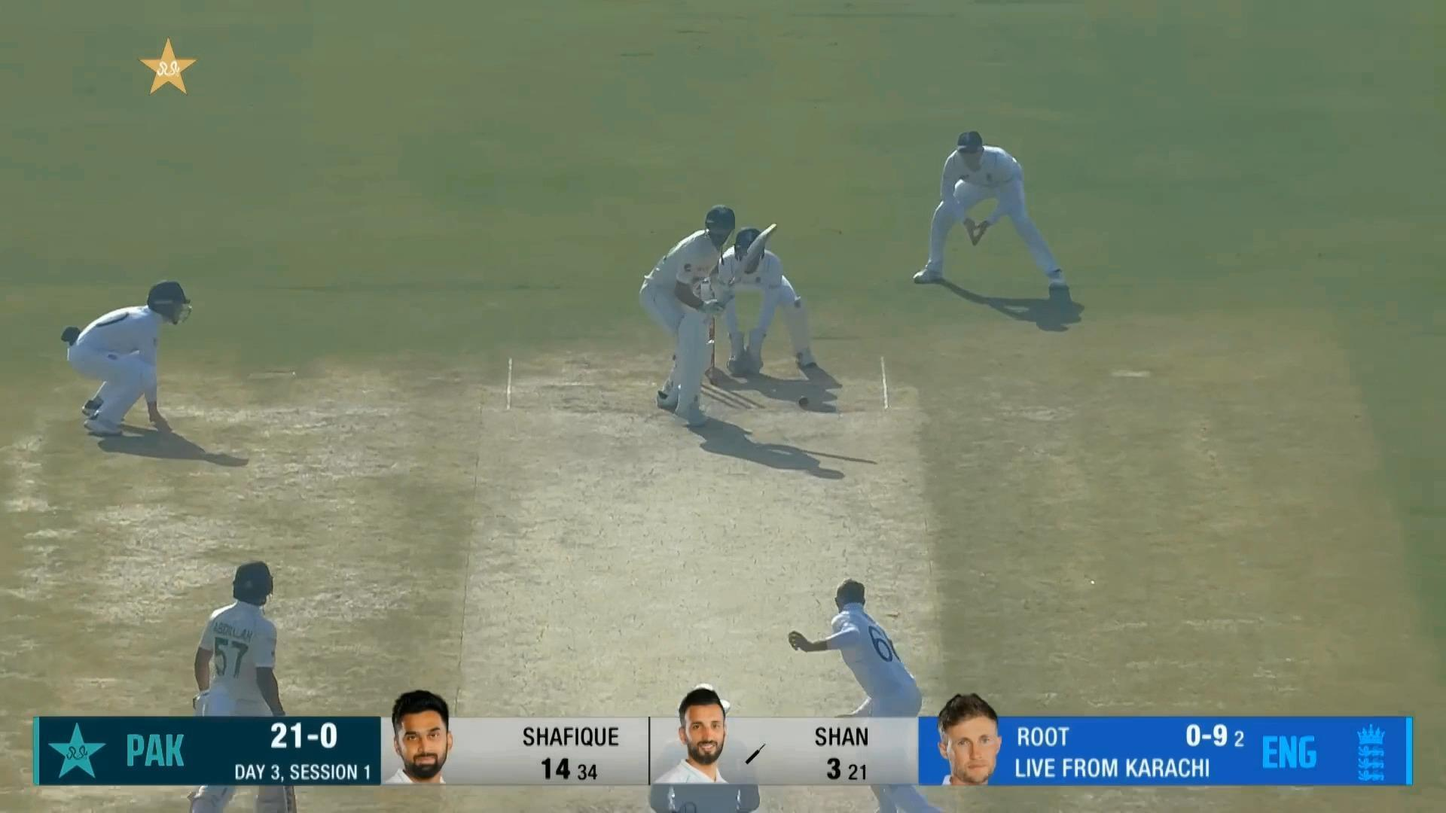BM 1: (638, 205, 779, 426)
BO: (787, 578, 923, 813)
